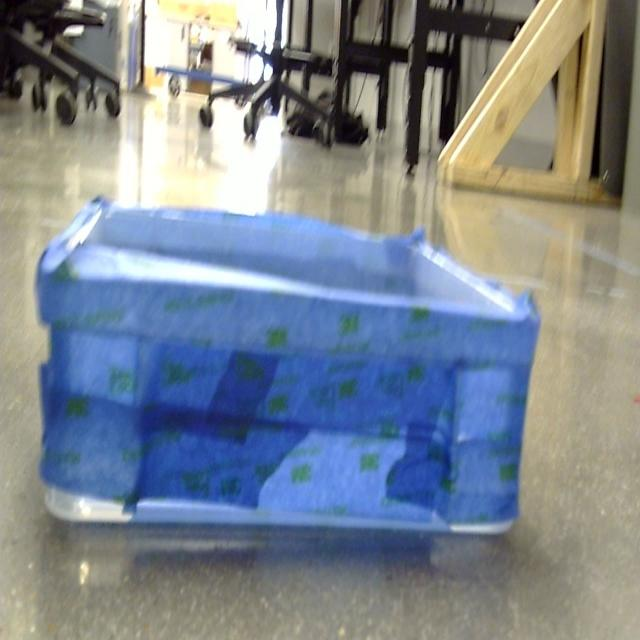bucket: (34, 198, 542, 557)
